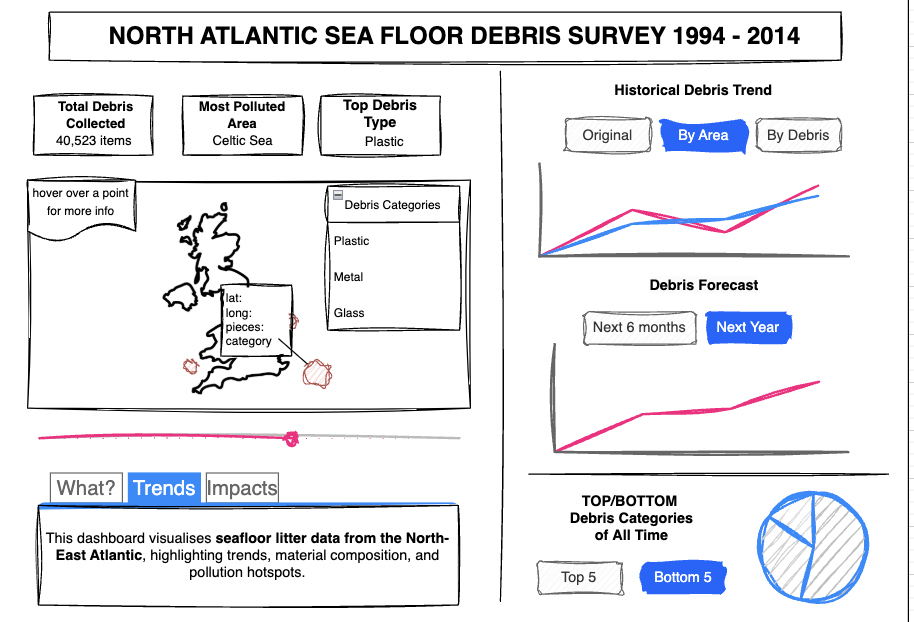

Layout of this report page (visuals, bound fields, positions):
{"tool":"tableau","page":{"name":"Dashboard 11 (5)","canvas":[1366,768],"ordinal":0},"visuals":[{"type":"image","param":"Image/sea.001.jpeg","box":[3,7,1359,763]},{"type":"title","box":[8,8,1350,35]},{"type":"text","box":[1186,8,139,106]},{"type":"text","box":[812,14,140,93]},{"type":"text","box":[999,15,140,93]},{"type":"text","box":[586,25,160,30]},{"type":"text","box":[56,42,448,64]},{"type":"image","param":"Image/Cefas-logo.png","box":[576,55,167,66]},{"type":"text","box":[813,56,140,96]},{"type":"text","box":[1183,56,140,96]},{"type":"text","box":[999,57,140,96]},{"type":"text","box":[536,151,403,34]},{"type":"worksheet","title":"map","mark":"Circle","rows":["Latitude"],"cols":["Longitude"],"box":[1057,157,257,212]},{"type":"text","box":[45,166,325,330]},{"type":"text","box":[47,167,205,14]},{"type":"worksheet","title":"over time","mark":"Automatic","rows":["Calculation_221802339387650054","area"],"cols":["totallitter"],"box":[417,183,577,283]},{"type":"legend","title":"map","param":"[federated.0x7v7631474lda1brsxy51rn3jwb].[none:area:nk]","box":[1057,379,251,114]},{"type":"text","box":[418,507,403,32]},{"type":"worksheet","title":"total_trend","mark":"Automatic","rows":["totallitter"],"cols":["date"],"box":[982,509,339,216]},{"type":"text","box":[56,510,223,224]},{"type":"worksheet","title":"animation","mark":"Circle","cols":["year"],"box":[350,533,458,179]},{"type":"legend","title":"animation","param":"[federated.1l6h4ct0hsccwt187fy690mj9vl9].[:Measure Names]","box":[819,546,157,155]},{"type":"currpage","title":"animation","box":[376,711,490,19]}]}

Visuals, with their boxes on the page's 1366x768 design canvas (x1, y1, x2, y2). These are canvas units, not pixel positions in the 914x622 screenshot, which may show the page scaled, cropped or inside an application window:
image: box=[3, 7, 1362, 770]
title: box=[8, 8, 1358, 43]
text: box=[1186, 8, 1325, 114]
text: box=[812, 14, 952, 107]
text: box=[999, 15, 1139, 108]
text: box=[586, 25, 746, 55]
text: box=[56, 42, 504, 106]
image: box=[576, 55, 743, 121]
text: box=[813, 56, 953, 152]
text: box=[1183, 56, 1323, 152]
text: box=[999, 57, 1139, 153]
text: box=[536, 151, 939, 185]
"map" worksheet (Circle marks): box=[1057, 157, 1314, 369]
text: box=[45, 166, 370, 496]
text: box=[47, 167, 252, 181]
"over time" worksheet: box=[417, 183, 994, 466]
"map" legend: box=[1057, 379, 1308, 493]
text: box=[418, 507, 821, 539]
"total_trend" worksheet: box=[982, 509, 1321, 725]
text: box=[56, 510, 279, 734]
"animation" worksheet (Circle marks): box=[350, 533, 808, 712]
"animation" legend: box=[819, 546, 976, 701]
"animation" currpage: box=[376, 711, 866, 730]
